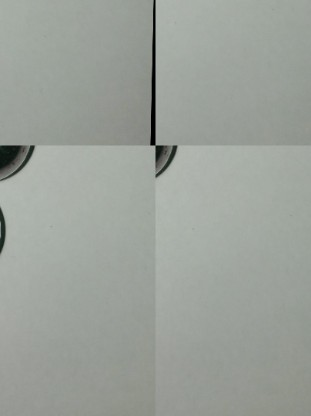ironball: (0, 143, 32, 184), (155, 145, 175, 181)
